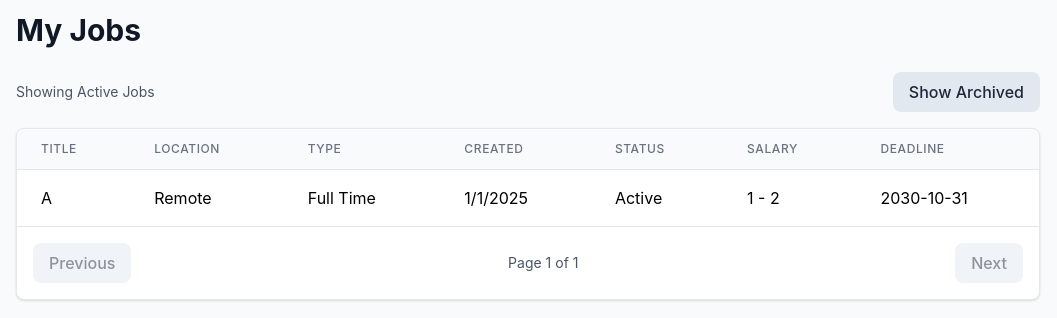
Test case: toggles archived and shows empty message
The width and height of the screenshot is (1057, 318).
Expected: the text "A" is shown, x1=17 y1=170 x2=130 y2=226
Click the button "Show Archived".
click(966, 92)  # box x1=893 y1=72 x2=1040 y2=112
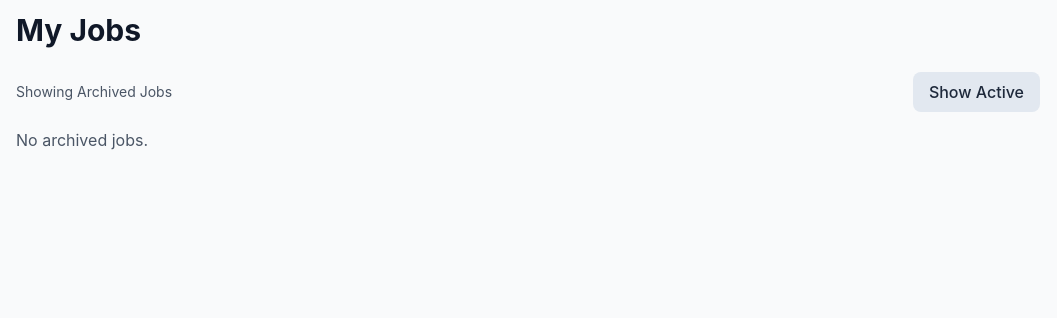
Expected: the text "No archived jobs." is shown, x1=16 y1=130 x2=148 y2=150
